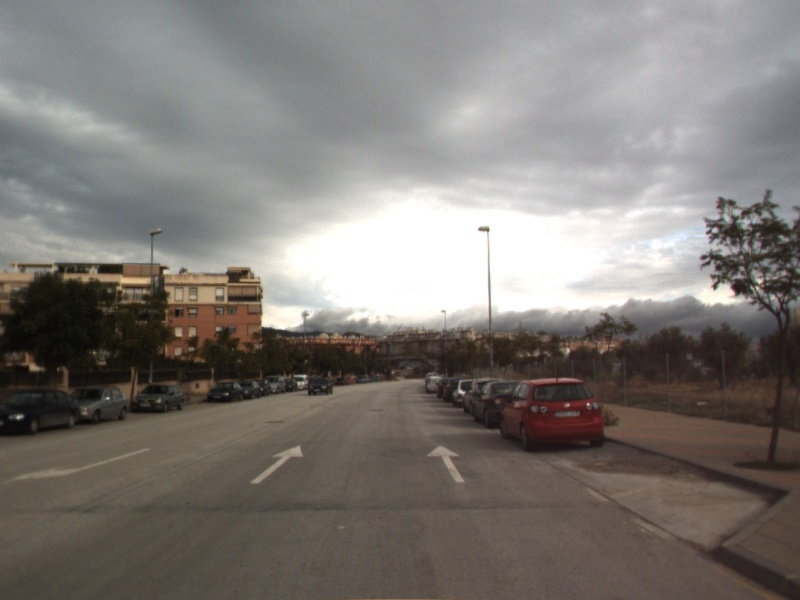STRAIGHT: (248, 443, 305, 486), (425, 443, 466, 484)
